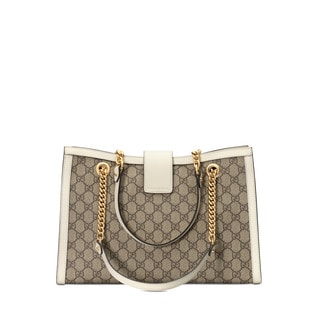Gucci: (39, 129, 266, 298), (136, 204, 192, 244)
